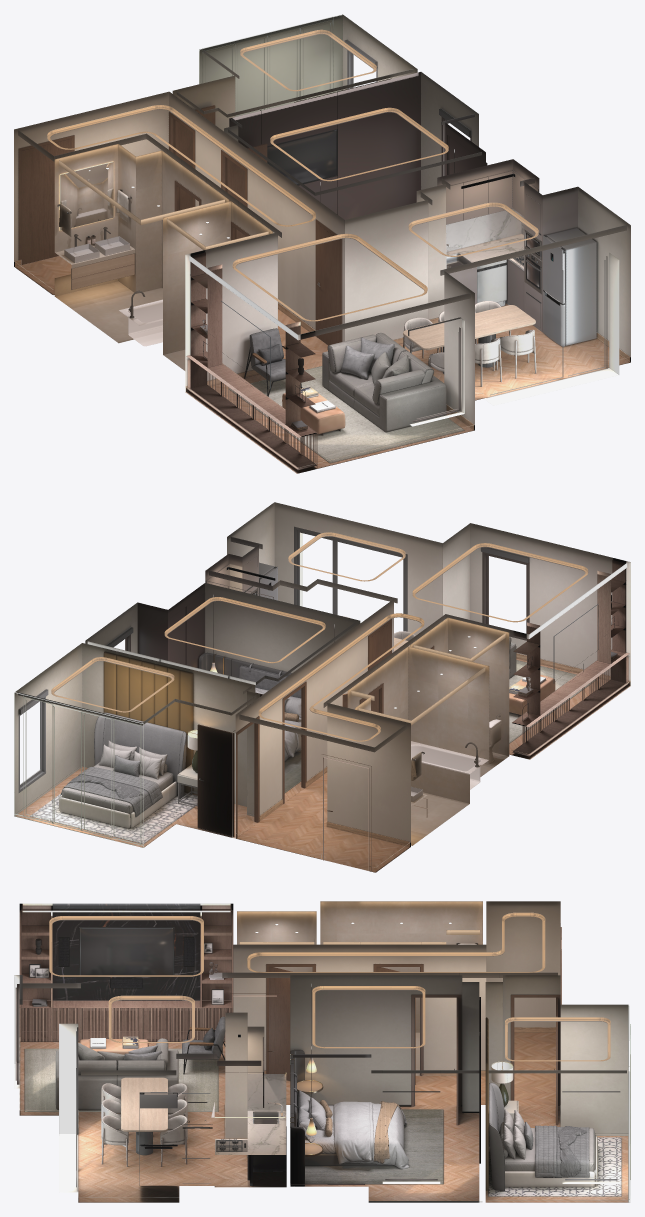
The model's file is appartement.glb.
3 views of the same model, one above another, from view 1: azimuth 30°, elevation 25°; view 2: azimuth 150°, elevation 25°; view 3: azimuth 270°, elevation 25° (orthographic). The views are drawn at different scales.
Parts seen in each view (by area): view 1: Sala_Cozinha_4, Banheiros_Corredor_0, Quartos_3, Teto_1; view 2: Quartos_3, Banheiros_Corredor_0, Sala_Cozinha_4, Teto_1, Chambre01_Meuble_Lit_2; view 3: Sala_Cozinha_4, Quartos_3, Banheiros_Corredor_0, Teto_1, Chambre01_Meuble_Lit_2.
Part boxes in pixels (x1,y1,x2,y2): Sala_Cozinha_4: (185, 159, 630, 473); Banheiros_Corredor_0: (14, 91, 344, 370); Quartos_3: (169, 14, 487, 238); Teto_1: (18, 29, 626, 340); Quartos_3: (14, 583, 360, 847); Banheiros_Corredor_0: (235, 599, 509, 872); Sala_Cozinha_4: (205, 502, 630, 759); Teto_1: (18, 532, 627, 752); Chambre01_Meuble_Lit_2: (60, 687, 301, 816); Sala_Cozinha_4: (14, 903, 286, 1202); Quartos_3: (290, 975, 630, 1202); Banheiros_Corredor_0: (230, 901, 561, 1104); Teto_1: (22, 912, 626, 1075); Chambre01_Meuble_Lit_2: (297, 1090, 595, 1177).
Size of the model in its own units: 7.05 by 2.51 by 10.66.
Materials: 5 (5 with a texture image).
